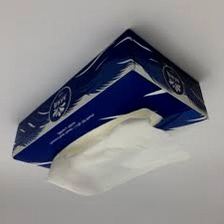book: (6, 22, 214, 176)
tissue: (41, 111, 197, 203)
